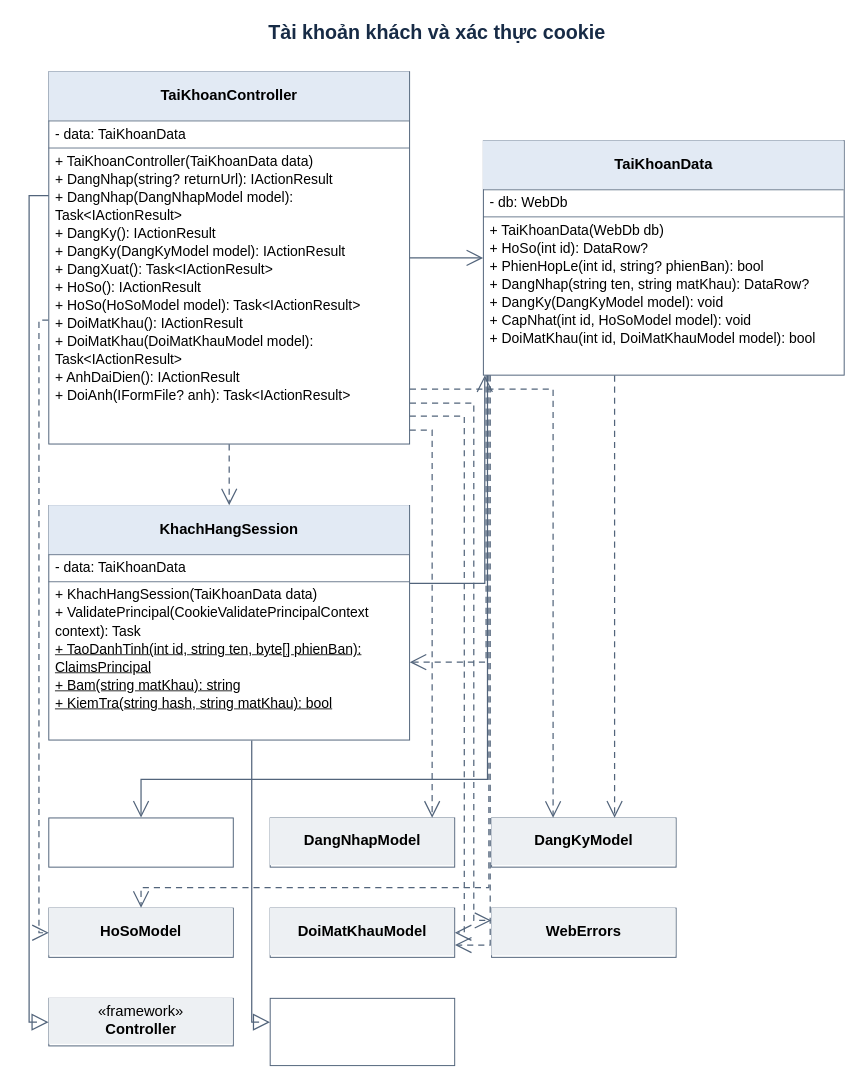
Image size: 863x1080. Some labels were removed from this diagram. Each missing label, with the centre of its shape:
WebDb: point (140, 842)
«framework» CookieAuthentication Events: point (362, 1031)
